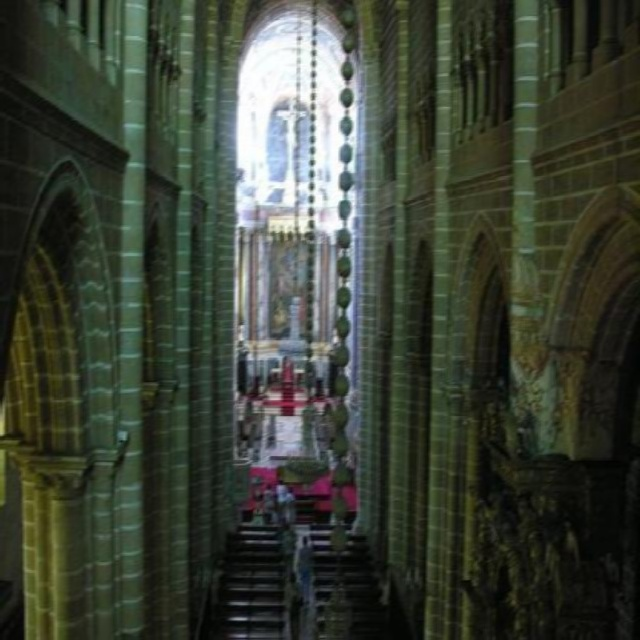stair: (306, 534, 409, 640), (208, 523, 292, 640)
